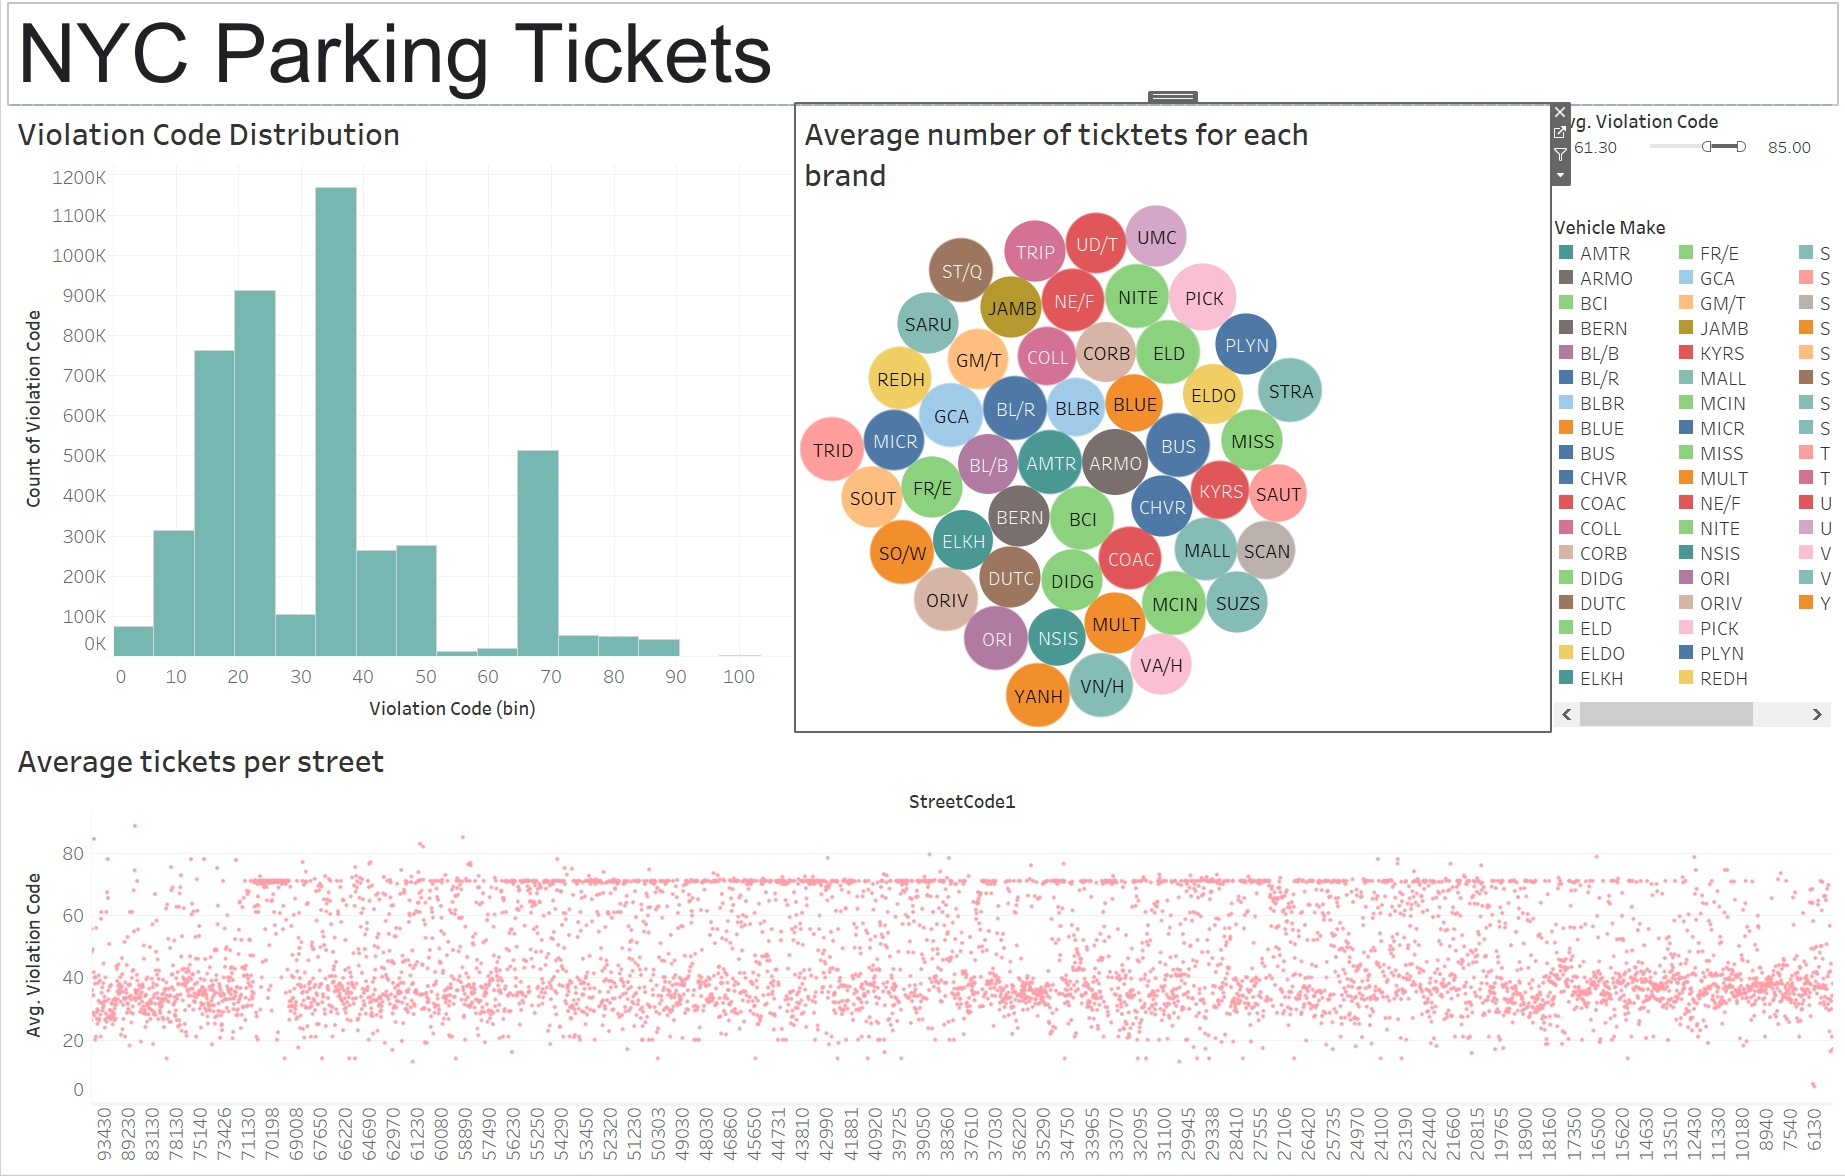

What the dashboard file says about the page in this screenshot:
{"tool":"tableau","page":{"name":"Dashboard 1","canvas":[1000,1000],"units":"permille","ordinal":0},"visuals":[{"type":"title","box":[4.4,6.8,991.1,84.9]},{"type":"worksheet","title":"ViolationCodeDist","mark":"Automatic","rows":["ViolationCode"],"cols":["Violation Code (bin)"],"box":[4.4,91.7,426.6,532.2]},{"type":"worksheet","title":"AverageTicketsBrand","mark":"Circle","box":[431.1,91.7,409,532.2]},{"type":"filter","title":"AverageTicketsBrand","param":"[federated.0ek56vh02e7bhy1380mja1r55rdk].[avg:ViolationCode:qk]","box":[840.1,91.7,155.5,90.1]},{"type":"legend","title":"AverageTicketsBrand","param":"[federated.0ek56vh02e7bhy1380mja1r55rdk].[none:VehicleMake:nk]","box":[840.1,181.8,155.5,442.1]},{"type":"worksheet","title":"AverageTicketsStreet","mark":"Shape","rows":["ViolationCode"],"cols":["StreetCode1"],"box":[4.4,623.9,991.1,369.4]}]}

Visuals, with their boxes on the dashboard's canvas, which has no fixed pixel size, in thousandths of its width and height (x1, y1, x2, y2). These are canvas units, not pixel positions in the 1845x1176 screenshot, which may show the page scaled, cropped or inside an application window:
title: 4,7,996,92
"ViolationCodeDist" worksheet: 4,92,431,624
"AverageTicketsBrand" worksheet (Circle marks): 431,92,840,624
"AverageTicketsBrand" filter: 840,92,996,182
"AverageTicketsBrand" legend: 840,182,996,624
"AverageTicketsStreet" worksheet (Shape marks): 4,624,996,993
